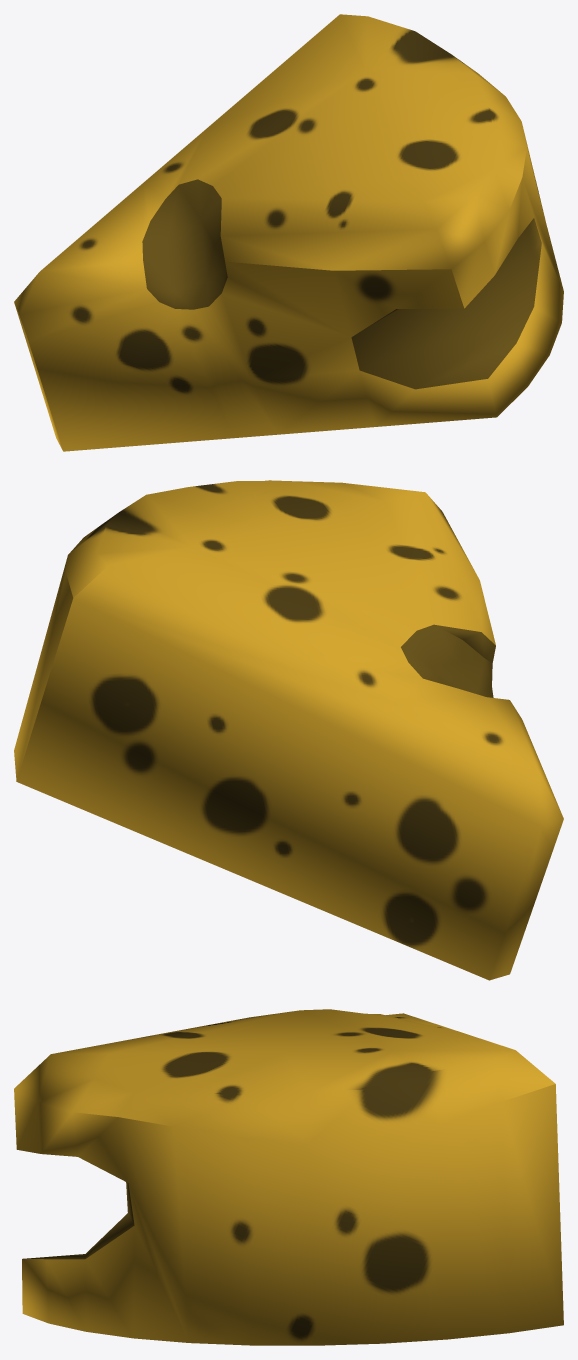
The model's file is Co_The_cheese.fbx.
3 views of the same model, one above another, from view 1: azimuth 30°, elevation 25°; view 2: azimuth 150°, elevation 25°; view 3: azimuth 270°, elevation 25° (orthographic). The views are drawn at different scales.
Visible parts, largest first — view 1: The Cheese; view 2: The Cheese; view 3: The Cheese.
Boxes of the visible parts, bbox=[...] form: The Cheese: bbox=[14, 14, 563, 451]; The Cheese: bbox=[14, 480, 563, 980]; The Cheese: bbox=[14, 1009, 563, 1345].
Bounding box in the file's own units: 83.98 × 54.39 × 68.81.
